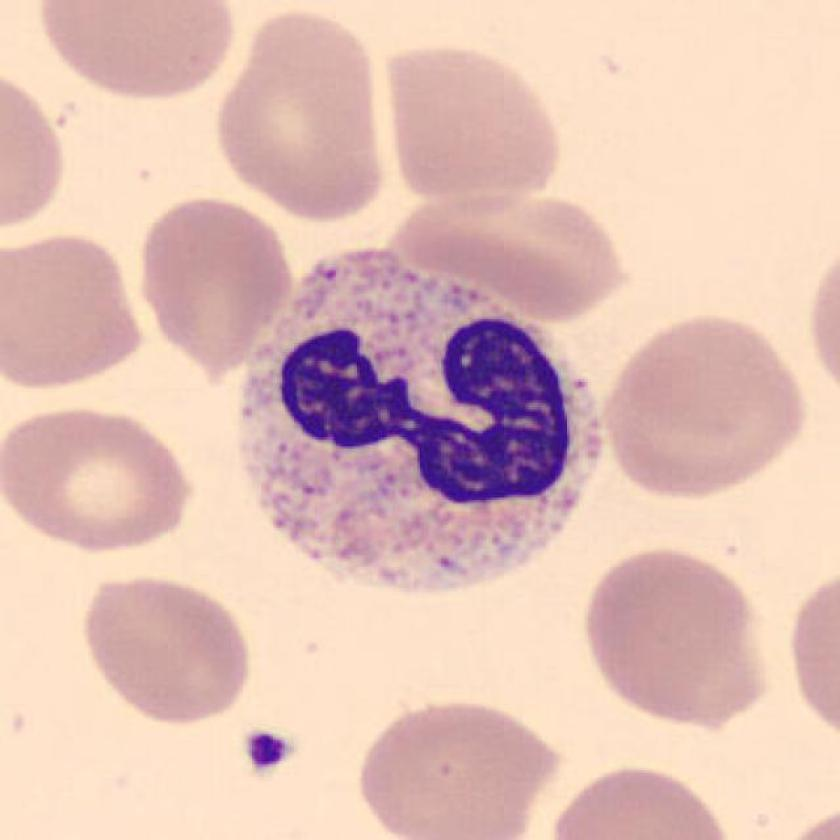neutrophil: (240, 252, 602, 593)
